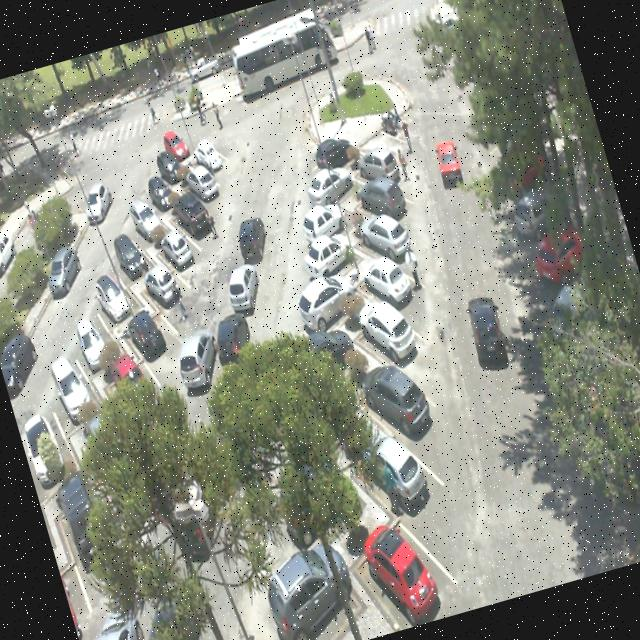empty: (356, 111, 414, 166)
occupied: (342, 484, 450, 626), (350, 418, 458, 550), (248, 524, 370, 640), (349, 348, 444, 466), (352, 292, 435, 389), (34, 336, 104, 432), (344, 242, 422, 328), (54, 282, 124, 373), (281, 268, 360, 344), (116, 291, 182, 377), (349, 198, 422, 273), (78, 246, 142, 330), (294, 218, 362, 283), (136, 248, 193, 324), (287, 186, 356, 248), (349, 162, 414, 227), (146, 211, 204, 283), (102, 218, 160, 288), (352, 134, 413, 192), (301, 154, 363, 209), (165, 182, 218, 244), (172, 148, 224, 210), (118, 187, 168, 250), (296, 126, 356, 178), (144, 132, 194, 193), (133, 160, 182, 220), (184, 126, 230, 184)
